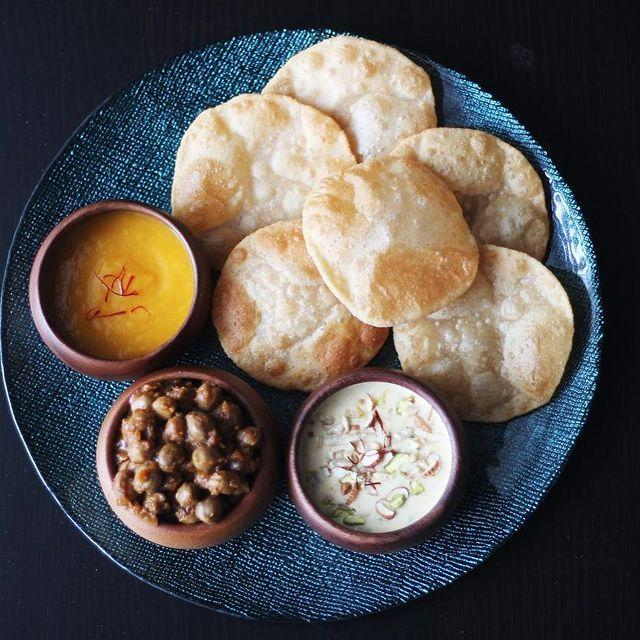Chole: (102, 370, 262, 540)
